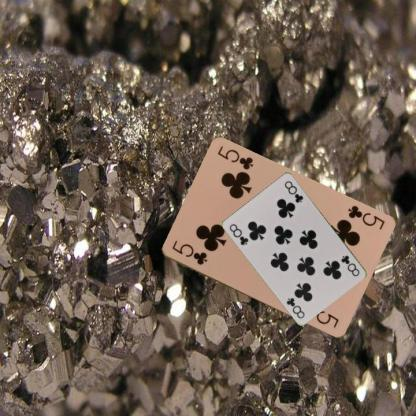5c: (168, 237, 209, 266), (344, 203, 386, 231)
8c: (227, 221, 250, 247), (339, 252, 361, 278)
